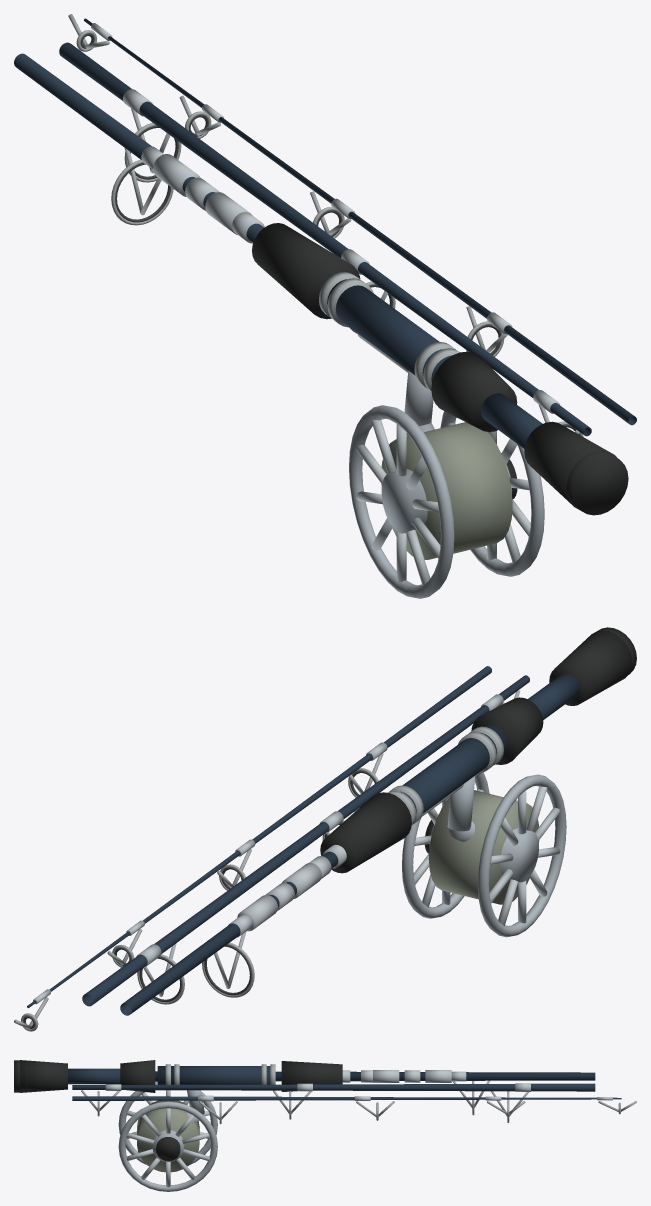
File: reed_fly_folded.glb
3 renders of one model, top to bottom at view 1: azimuth 30°, elevation 25°; view 2: azimuth 150°, elevation 25°; view 3: azimuth 270°, elevation 25°, orthographic. The views are drawn at different scales.
Visible parts, largest first — view 1: Folded rod; view 2: Folded rod; view 3: Folded rod.
Boxes of the visible parts, <box> form: Folded rod: <box>14,14,636,598</box>; Folded rod: <box>14,627,636,1031</box>; Folded rod: <box>14,1060,636,1191</box>.
Size of the model in its own units: 0.1067 by 0.151 by 0.7147.
